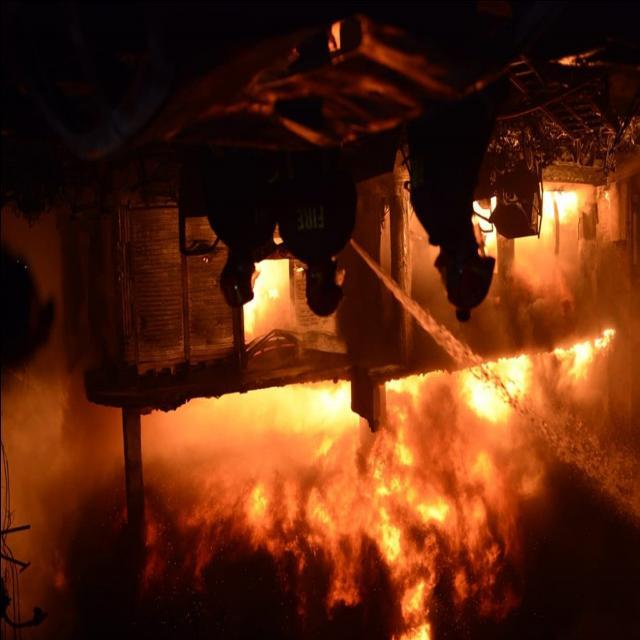Fire: (103, 169, 640, 627)
